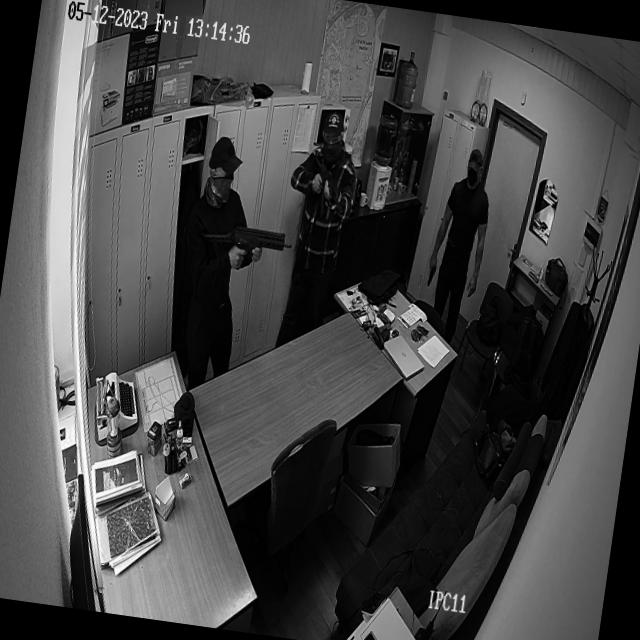gun: (197, 217, 295, 273), (302, 148, 356, 222), (424, 261, 440, 288)
person with a gun: (166, 126, 308, 347), (270, 104, 366, 328), (420, 139, 503, 311)
